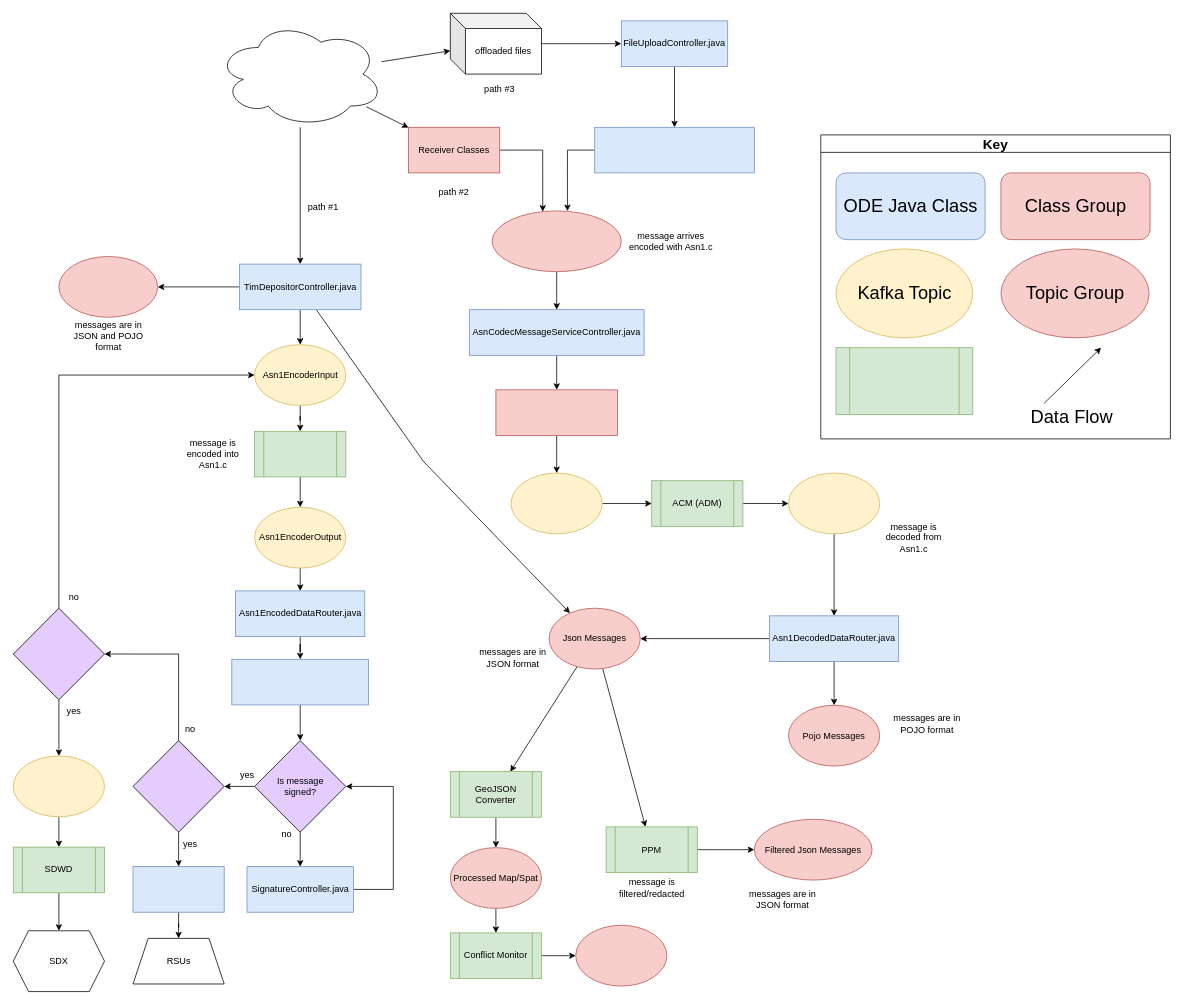
This 1184x1005 diagram has some shape labels left out. Each missing label, with the centre of its shape:
"ACM (AEM)" goes at point (300, 454).
"Asn1CommandManager.java" goes at point (300, 682).
"Asn1Decode Classes" goes at point (556, 412).
"Asn1DecoderInput" goes at point (556, 503).
"Asn1DecoderOutput" goes at point (834, 503).
"Broadcast Messages" goes at point (108, 286).
"CM Output Topics" goes at point (621, 955).
"Is message double-encoded?" goes at point (58, 653).
"LogFileToAsn1CodecPublisher,java" goes at point (674, 150).
"Raw Encoded Messages" goes at point (556, 241).
"RSU Delivery?" goes at point (178, 786).
"RsuDepositor.java" goes at point (178, 889).
"SDWDepositorInput" goes at point (58, 786).
"Submodule" goes at point (904, 380).
